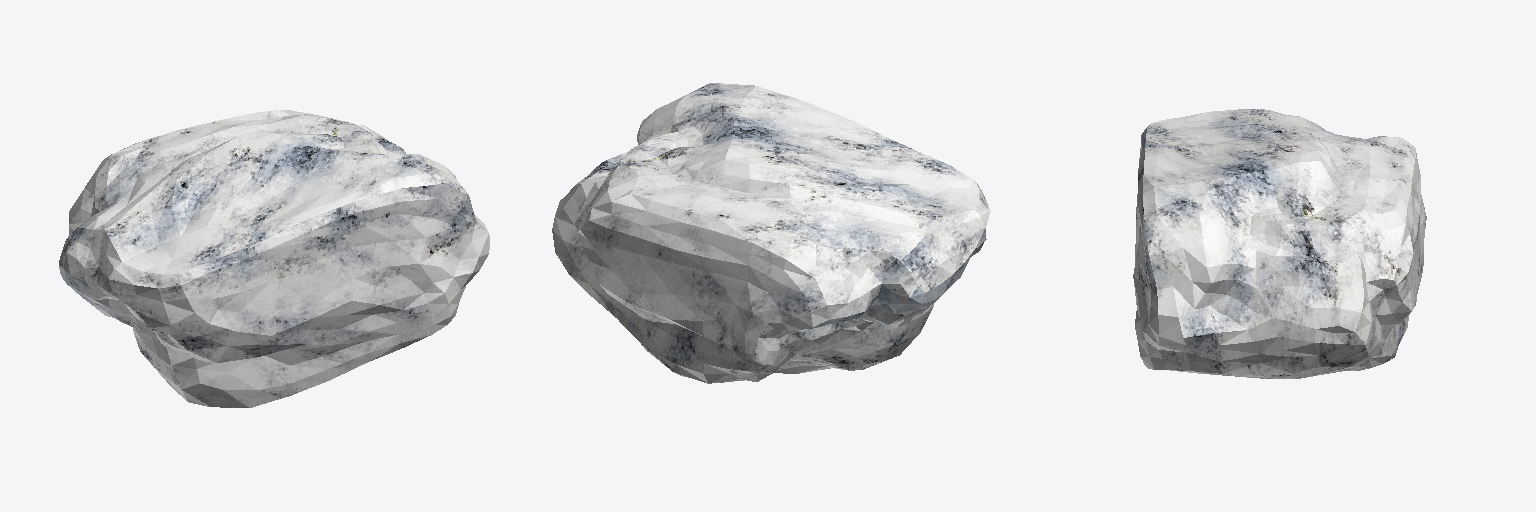
3 views of the same model, side by side, from view 1: azimuth 30°, elevation 25°; view 2: azimuth 150°, elevation 25°; view 3: azimuth 270°, elevation 25° (orthographic).
Visible parts, largest first — view 1: roca_nieve_Rock_1; view 2: roca_nieve_Rock_1; view 3: roca_nieve_Rock_1.
Boxes of the visible parts, <box> form: roca_nieve_Rock_1: <box>59,110,489,407</box>; roca_nieve_Rock_1: <box>552,83,990,383</box>; roca_nieve_Rock_1: <box>1133,109,1426,378</box>.
Bounding box in the file's own units: 2.24 × 1.24 × 1.53.
1 materials, 1 textured.